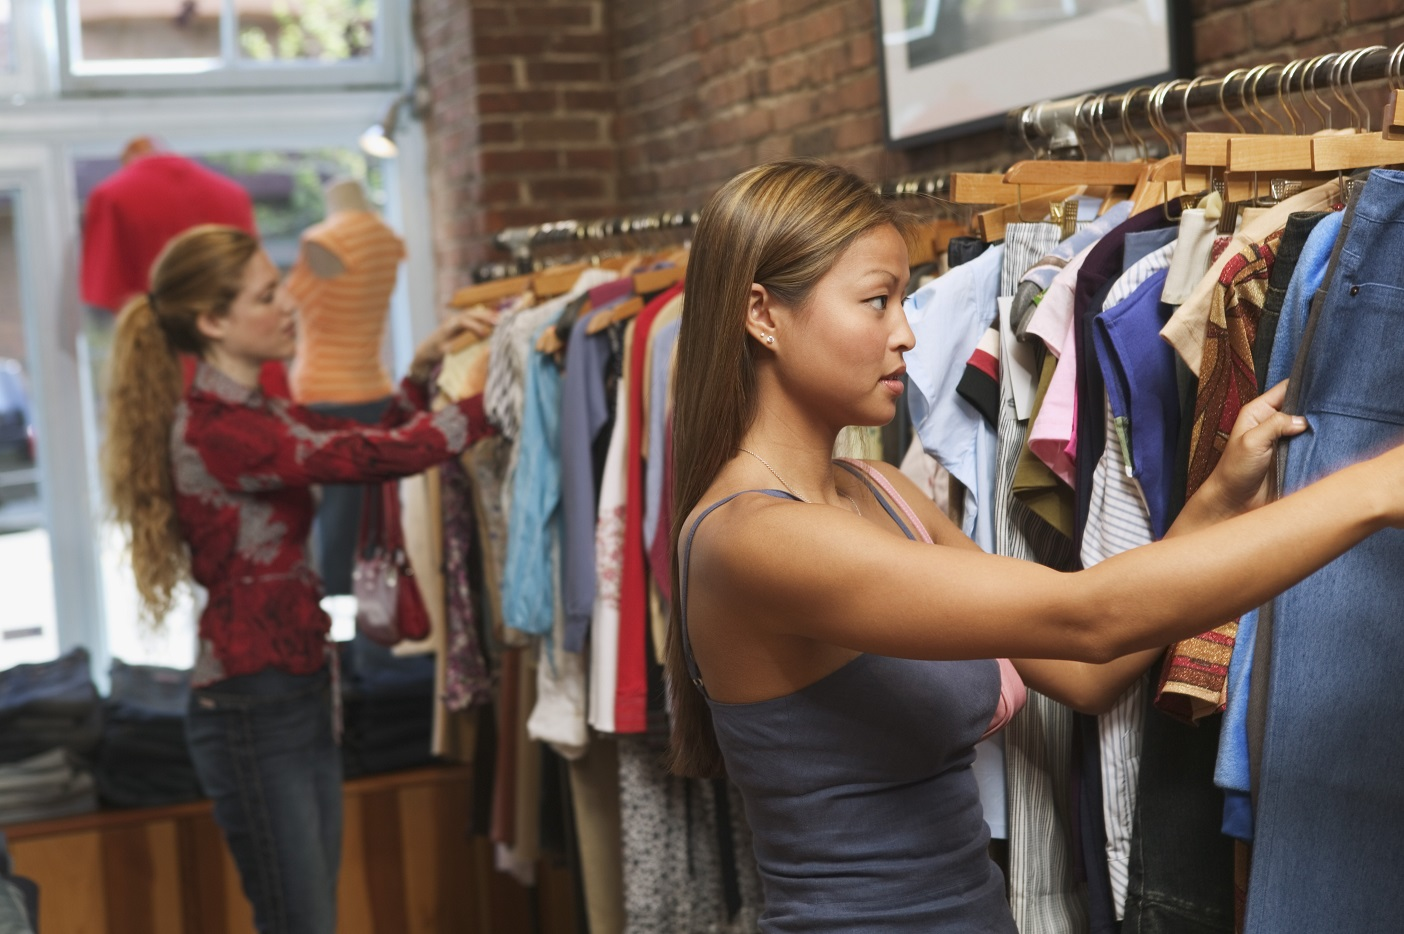Age_20_30: (716, 192, 919, 434)
Age_30_40: (165, 249, 306, 360)
E_White: (716, 192, 919, 434), (165, 249, 306, 360)
Emotion_Neutral: (716, 192, 919, 434), (165, 249, 306, 360)
G_ Female: (716, 192, 919, 434), (165, 249, 306, 360)
